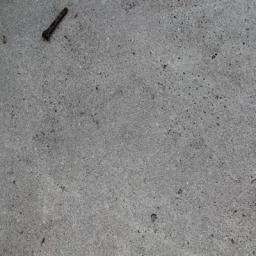FOD: (42, 7, 71, 44)
